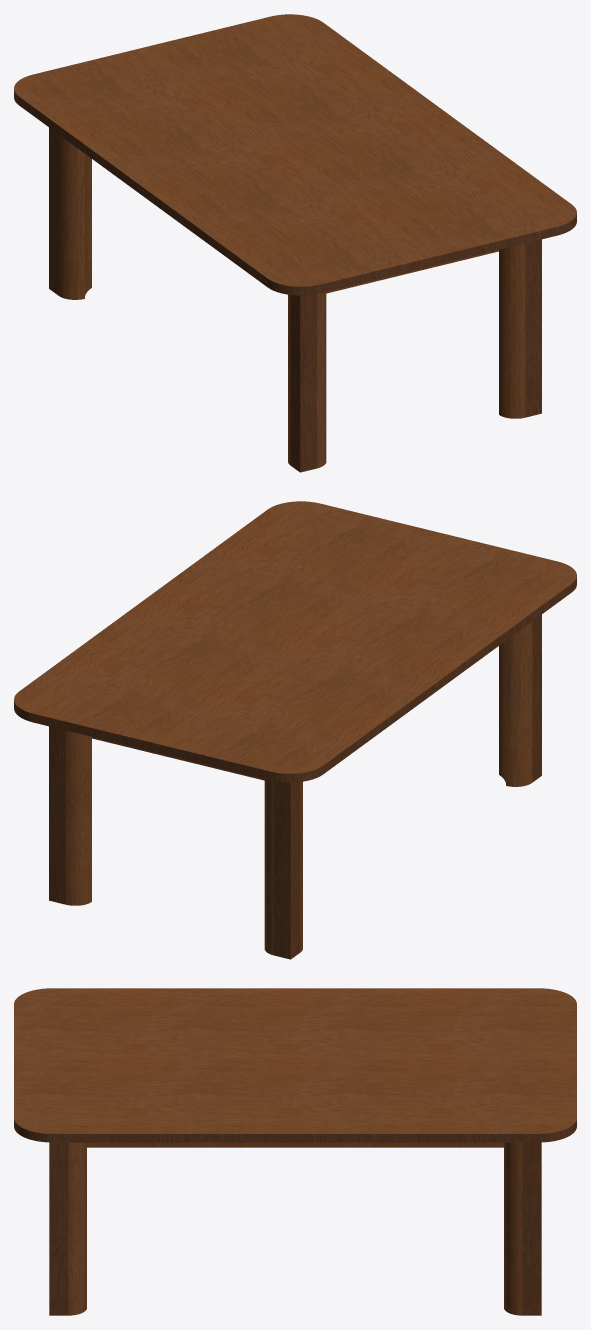
3 views of the same model, one above another, from view 1: azimuth 30°, elevation 25°; view 2: azimuth 150°, elevation 25°; view 3: azimuth 270°, elevation 25° (orthographic).
Visible parts, largest first — view 1: Mesh1_Wood_Veneer_01_0, Model; view 2: Mesh1_Wood_Veneer_01_0, Model; view 3: Mesh1_Wood_Veneer_01_0, Model.
Boxes of the visible parts, <box> form: Mesh1_Wood_Veneer_01_0: <box>14,14,576,468</box>; Model: <box>14,90,576,472</box>; Mesh1_Wood_Veneer_01_0: <box>14,501,576,955</box>; Model: <box>14,577,576,959</box>; Mesh1_Wood_Veneer_01_0: <box>14,988,576,1315</box>; Model: <box>14,1119,576,1315</box>.
Bounding box in the file's own units: 410 × 259 × 671.
Materials: 2 (2 with a texture image).
